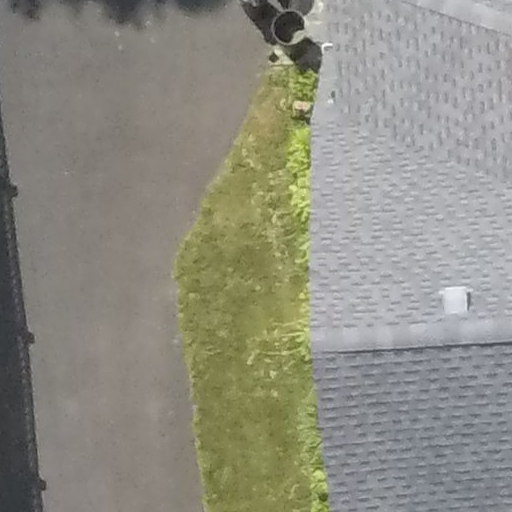container: (265, 1, 318, 48)
trash bin: (268, 8, 315, 56)
